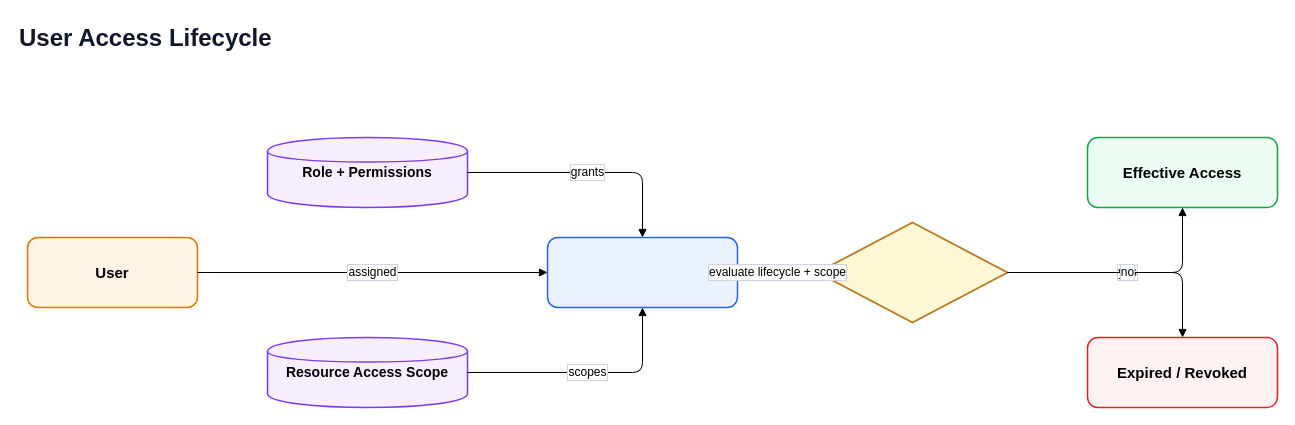
Image size: 1295x425. Some labels were removed from this diagram. The shapes that lost their labels are listed below. From the top down, each one's centre as x and y in pixels, then its label:
(642,272): Role Assignment
(912,272): Active + In Scope?
